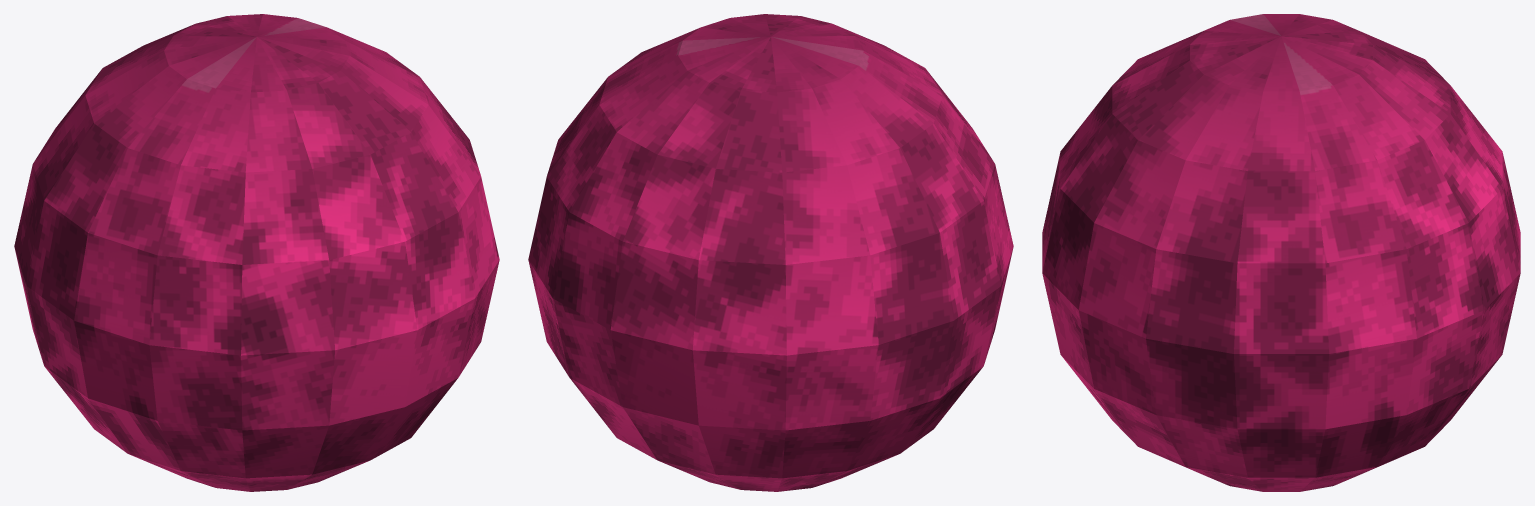
The model's file is Planet1.fbx.
3 renders of one model, left to right at view 1: azimuth 30°, elevation 25°; view 2: azimuth 150°, elevation 25°; view 3: azimuth 270°, elevation 25°, orthographic.
Visible parts, largest first — view 1: Planet1; view 2: Planet1; view 3: Planet1.
Part boxes in pixels (x1,y1,x2,y2): Planet1: (14, 14, 499, 491); Planet1: (528, 14, 1013, 491); Planet1: (1042, 14, 1520, 491).
Bounding box in the file's own units: 1088 × 1088 × 1088.
1 material, 1 textured.
